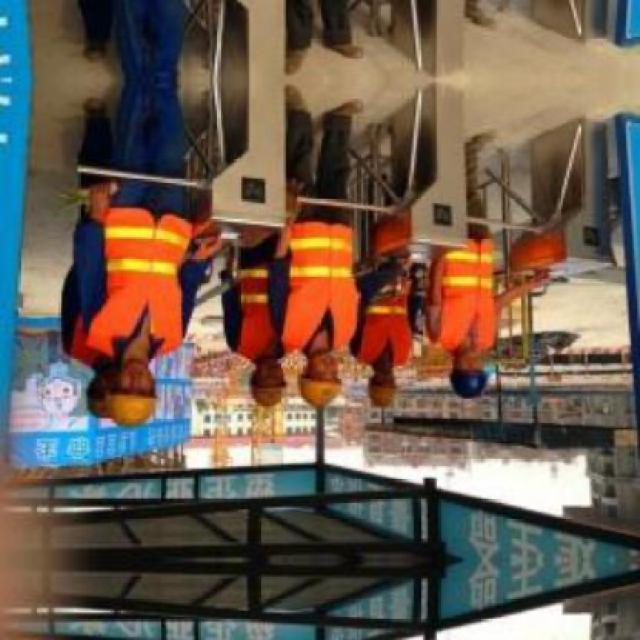con casco: (86, 354, 182, 432), (306, 342, 349, 416), (360, 361, 414, 414), (238, 347, 282, 412), (454, 342, 492, 416)
